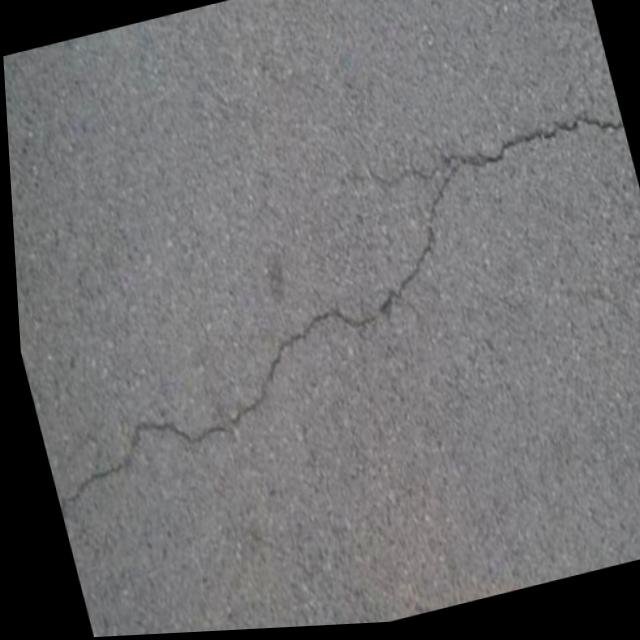Crack: (6, 97, 640, 517)
